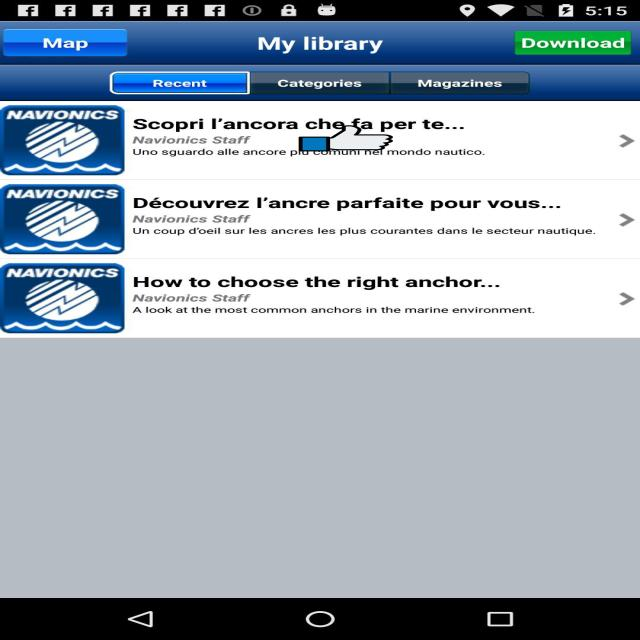privacy zuckering: (299, 125, 393, 152)
